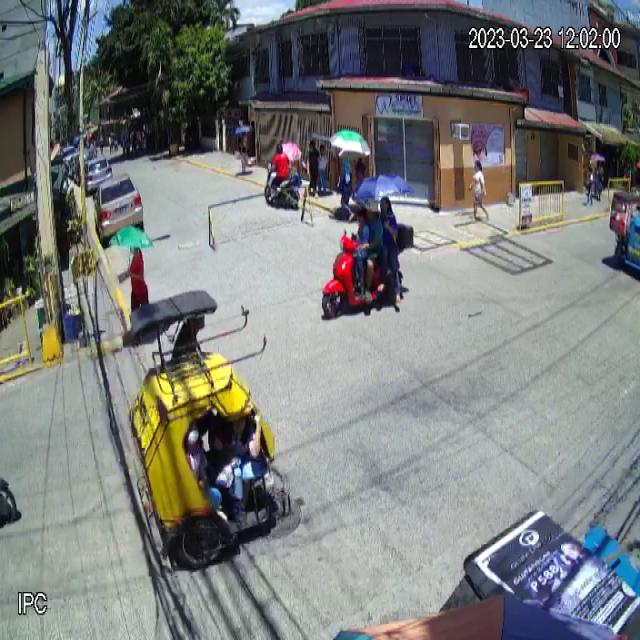Motorcycle: (319, 220, 412, 324)
